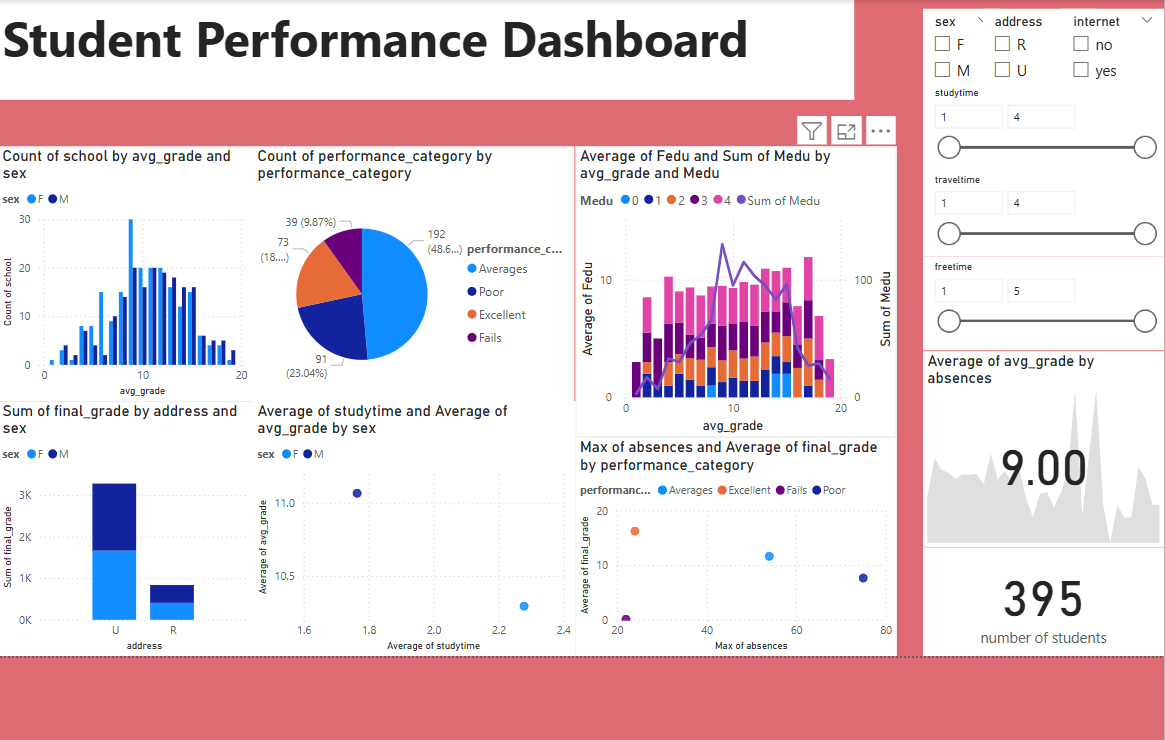

The dashboard page shown, as its layout file describes it:
{"tool":"powerbi","page":{"name":"Page 1","canvas":[1280,720],"ordinal":0},"visuals":[{"type":"clusteredColumnChart","fields":{"Category":["student-mat.avg_grade "],"Y":["CountNonNull(student-mat.school)"],"Series":["student-mat.sex"]},"box":[0,160.5,279.9,279.9],"z":0},{"type":"columnChart","fields":{"Category":["student-mat.address"],"Y":["Sum(student-mat.final_grade)"],"Series":["student-mat.sex"]},"box":[0,440.5,279.9,279.9],"z":1000},{"type":"lineStackedColumnComboChart","fields":{"Category":["student-mat.avg_grade "],"Y":["Avg(student-mat.Fedu)"],"Series":["student-mat.Medu"],"Y2":["Sum(student-mat.Medu)"]},"box":[634,160.5,352.7,319.7],"z":2000},{"type":"pieChart","fields":{"Category":["student-mat.performance_category"],"Y":["CountNonNull(student-mat.performance_category)"]},"box":[279.9,160.5,352.7,286.8],"z":3000},{"type":"slicer","fields":{"Values":["student-mat.sex"]},"box":[1015.4,9.6,85.1,104.3],"z":4000},{"type":"slicer","fields":{"Values":["student-mat.address"]},"box":[1081.3,9.6,123.5,90.6],"z":5000},{"type":"slicer","fields":{"Values":["student-mat.studytime"]},"box":[1015.4,90.6,264.8,102.9],"z":6000},{"type":"slicer","fields":{"Values":["student-mat.internet"]},"box":[1167.8,9.6,112.5,100.2],"z":7000},{"type":"kpi","fields":{"Indicator":["Avg(student-mat.avg_grade )"],"TrendLine":["student-mat.absences"]},"box":[1015.4,385.6,264.8,215.4],"z":8000},{"type":"slicer","fields":{"Values":["student-mat.traveltime"]},"box":[1015.4,185.2,264.8,96.1],"z":9000},{"type":"slicer","fields":{"Values":["student-mat.freetime"]},"box":[1015.4,281.3,264.8,102.9],"z":10000},{"type":"scatterChart","fields":{"X":["Avg(student-mat.studytime)"],"Series":["student-mat.sex"],"Y":["student-mat.avg_grade "]},"box":[279.9,440.5,354,279.9],"z":11000},{"type":"scatterChart","fields":{"Series":["student-mat.performance_category"],"X":["Max(student-mat.absences)"],"Y":["Avg(student-mat.final_grade)"]},"box":[634,480.3,352.7,240.1],"z":12000},{"type":"textbox","box":[0,0,940,109.8],"z":13000},{"type":"card","fields":{"Values":["CountNonNull(student-mat.school)"]},"box":[1015.4,601,264.8,119.4],"z":14000}]}

Visuals, with their boxes on the page's 1280x720 design canvas (x1, y1, x2, y2). These are canvas units, not pixel positions in the 1165x740 screenshot, which may show the page scaled, cropped or inside an application window:
clusteredColumnChart - student-mat.avg_grade  x CountNonNull(student-mat.school): (x1=0, y1=160, x2=280, y2=440)
columnChart - student-mat.address x Sum(student-mat.final_grade): (x1=0, y1=440, x2=280, y2=720)
lineStackedColumnComboChart - student-mat.avg_grade  x Avg(student-mat.Fedu): (x1=634, y1=160, x2=987, y2=480)
pieChart - student-mat.performance_category x CountNonNull(student-mat.performance_category): (x1=280, y1=160, x2=633, y2=447)
slicer - student-mat.sex: (x1=1015, y1=10, x2=1100, y2=114)
slicer - student-mat.address: (x1=1081, y1=10, x2=1205, y2=100)
slicer - student-mat.studytime: (x1=1015, y1=91, x2=1280, y2=194)
slicer - student-mat.internet: (x1=1168, y1=10, x2=1280, y2=110)
kpi - Avg(student-mat.avg_grade ) x student-mat.absences: (x1=1015, y1=386, x2=1280, y2=601)
slicer - student-mat.traveltime: (x1=1015, y1=185, x2=1280, y2=281)
slicer - student-mat.freetime: (x1=1015, y1=281, x2=1280, y2=384)
scatterChart - Avg(student-mat.studytime) x student-mat.sex: (x1=280, y1=440, x2=634, y2=720)
scatterChart - student-mat.performance_category x Max(student-mat.absences): (x1=634, y1=480, x2=987, y2=720)
textbox: (x1=0, y1=0, x2=940, y2=110)
card - CountNonNull(student-mat.school): (x1=1015, y1=601, x2=1280, y2=720)
